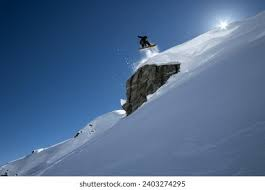snowboard: (139, 41, 159, 50)
